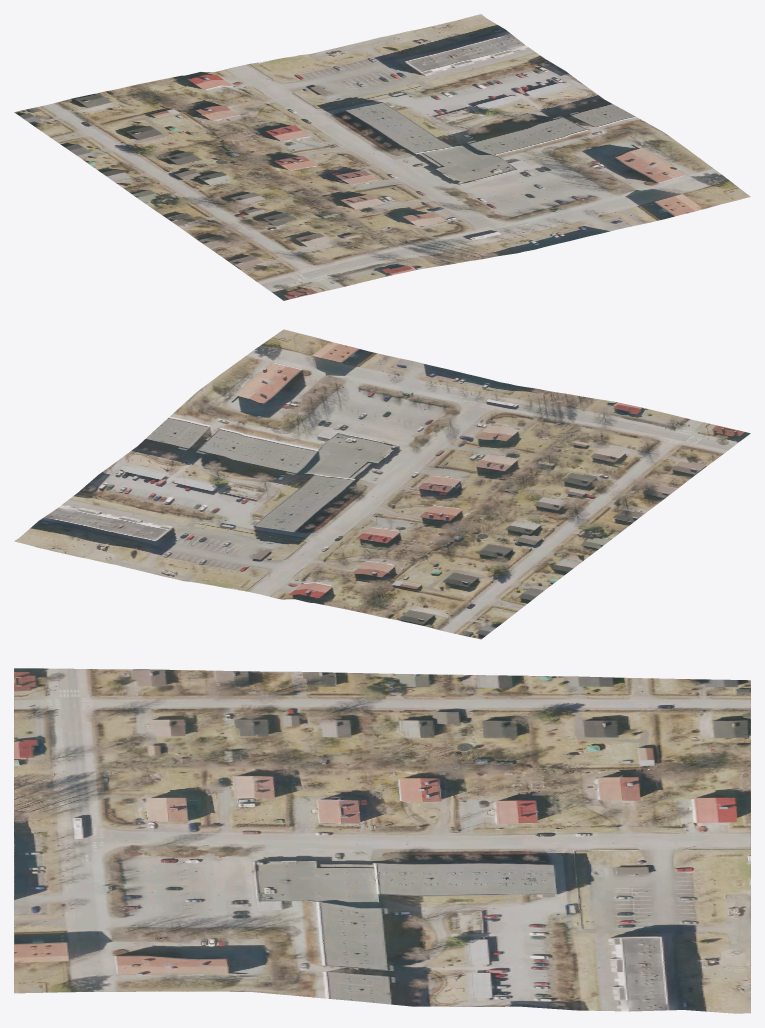
File: CM_Terrain_24489434_6818975.fbx
3 renders of one model, top to bottom at view 1: azimuth 30°, elevation 25°; view 2: azimuth 150°, elevation 25°; view 3: azimuth 270°, elevation 25°, orthographic. The views are drawn at different scales.
Visible parts, largest first — view 1: CM_Terrain_24489434_6818975_LOD0; view 2: CM_Terrain_24489434_6818975_LOD0; view 3: CM_Terrain_24489434_6818975_LOD0.
Part boxes in pixels (box(x1,y1,x2,y2)): CM_Terrain_24489434_6818975_LOD0: box(14, 14, 750, 300); CM_Terrain_24489434_6818975_LOD0: box(14, 329, 750, 639); CM_Terrain_24489434_6818975_LOD0: box(14, 668, 750, 1013).
Size of what is drawn, in the model's own units: 205 by 10.54 by 205.
